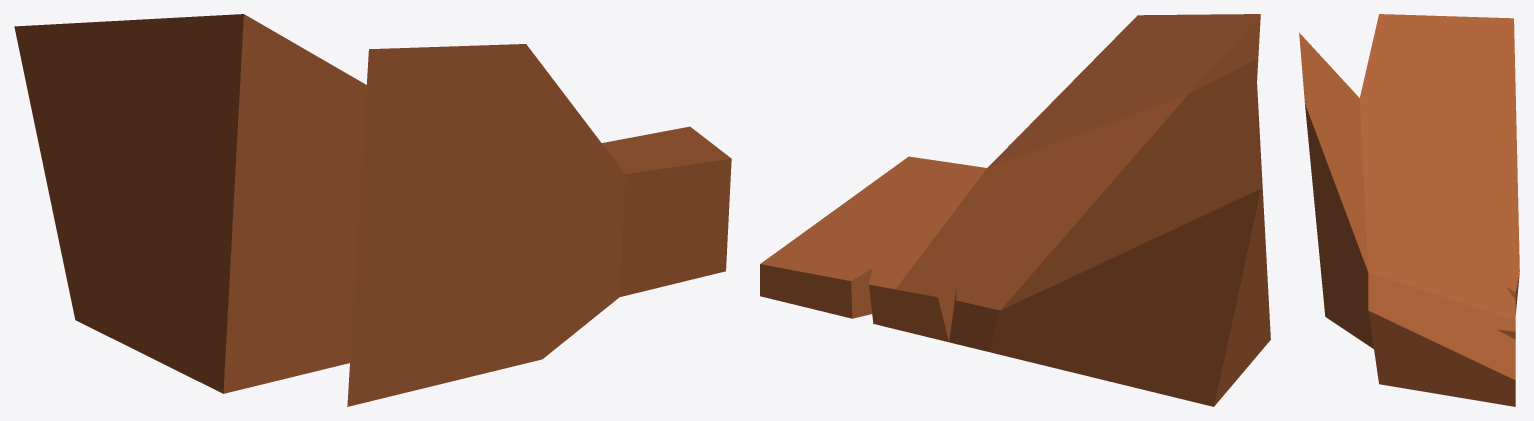
File: fbx_medium_rock.fbx
The picture shows the model from 3 angles, left to right: view 1: azimuth 30°, elevation 25°; view 2: azimuth 150°, elevation 25°; view 3: azimuth 270°, elevation 25°; orthographic projection. The views are drawn at different scales.
Visible parts, largest first — view 1: Cube.008; view 2: Cube.008; view 3: Cube.008.
Boxes of the visible parts, left/top/right/bottom form: Cube.008: left=14, top=14, right=731, bottom=406; Cube.008: left=760, top=14, right=1270, bottom=406; Cube.008: left=1299, top=14, right=1519, bottom=406.
Size of the model in its own units: 116 by 61.53 by 54.11.
